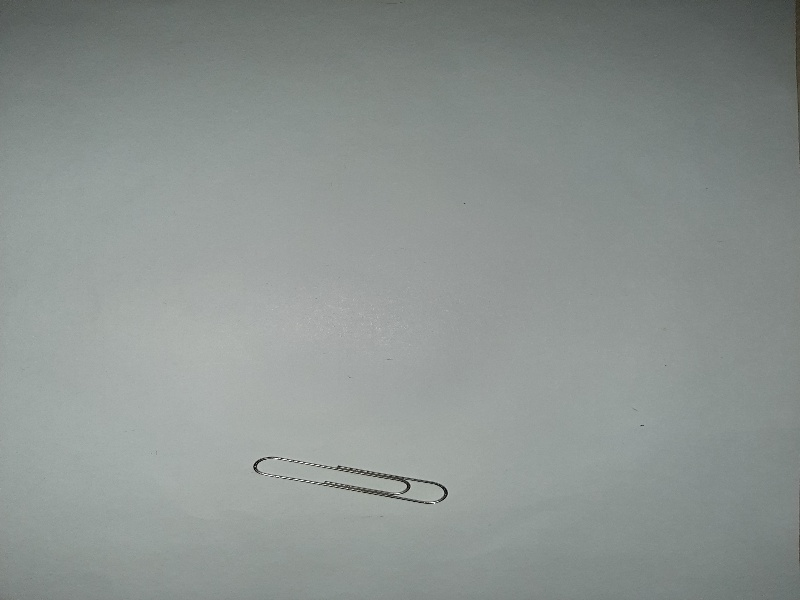Big Jumpclip: (248, 446, 451, 515)
